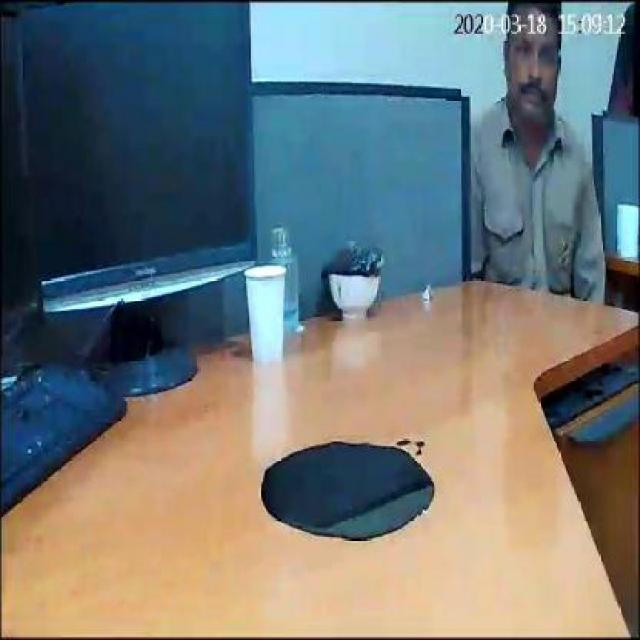spill: (254, 438, 432, 546)
